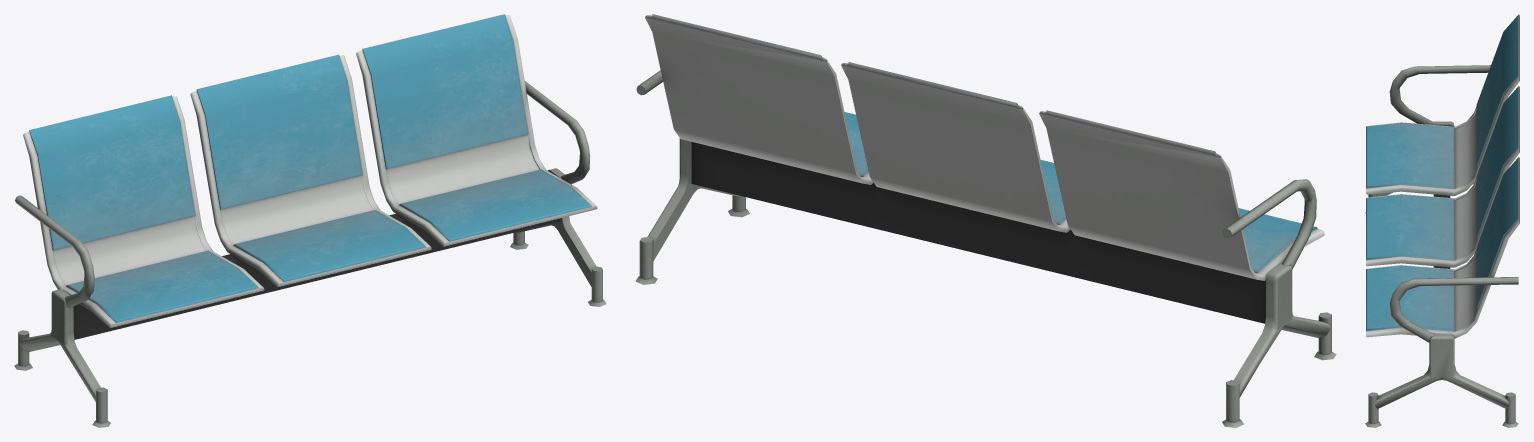
The model's file is hospital_bench.glb.
The picture shows the model from 3 angles, left to right: view 1: azimuth 30°, elevation 25°; view 2: azimuth 150°, elevation 25°; view 3: azimuth 270°, elevation 25°; orthographic projection. The views are drawn at different scales.
Parts seen in each view (by area): view 1: hospital_bench; view 2: hospital_bench; view 3: hospital_bench.
Part boxes in pixels (box(x1,y1,x2,y2)): hospital_bench: box(14, 14, 606, 427); hospital_bench: box(635, 14, 1336, 427); hospital_bench: box(1365, 14, 1519, 427).
Bounding box in the file's own units: 2.03 × 0.8743 × 0.6052.
1 material, 1 textured.
